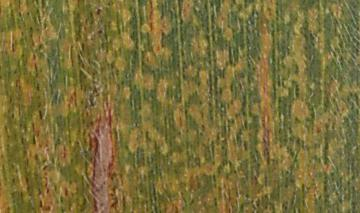tarspot: (159, 30, 167, 50), (265, 6, 273, 19), (33, 62, 39, 78), (241, 139, 249, 151), (63, 185, 69, 198), (37, 109, 44, 120), (10, 42, 17, 53), (30, 53, 39, 61), (293, 116, 301, 125), (95, 7, 102, 17), (35, 81, 41, 92), (38, 198, 44, 209), (212, 196, 218, 207), (37, 187, 43, 197), (97, 28, 104, 36), (255, 54, 262, 62), (41, 164, 49, 171), (173, 204, 179, 213), (244, 192, 251, 199), (44, 175, 48, 187), (45, 186, 50, 195), (25, 10, 31, 17), (200, 122, 205, 130), (198, 131, 204, 137), (251, 66, 256, 72), (284, 169, 289, 175)
